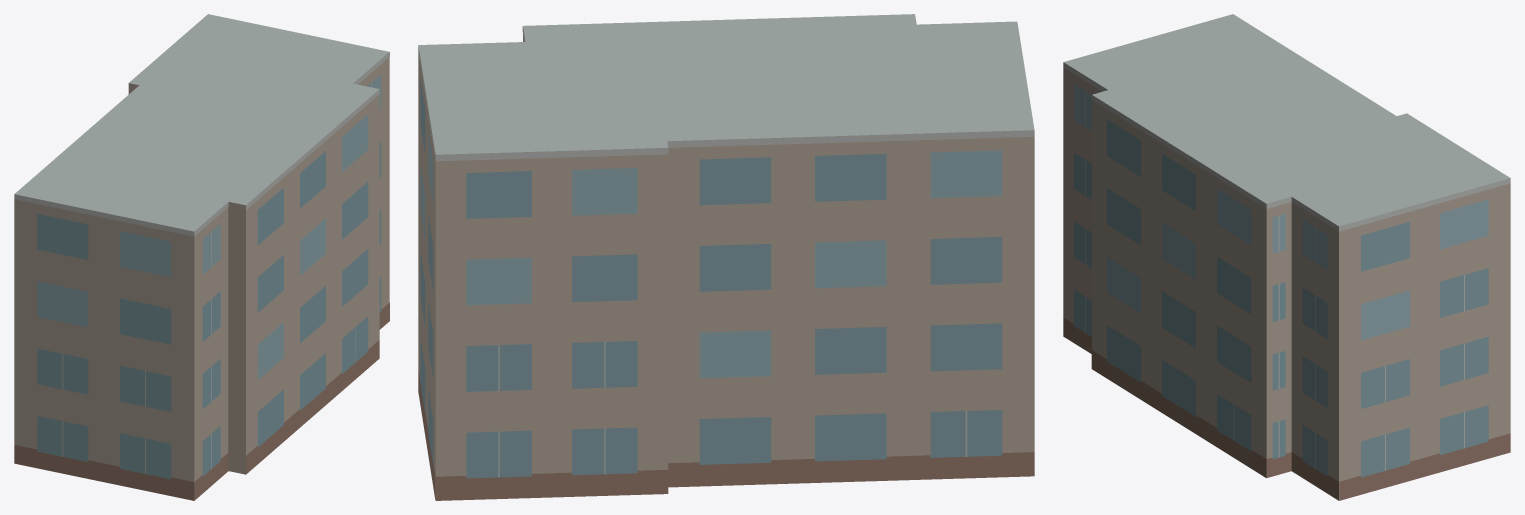
The model's file is survey-upis-32827807.glb.
3 renders of one model, left to right at view 1: azimuth 30°, elevation 25°; view 2: azimuth 150°, elevation 25°; view 3: azimuth 270°, elevation 25°, orthographic. The views are drawn at different scales.
Visible parts, largest first — view 1: survey-upis-32827807.tmp; view 2: survey-upis-32827807.tmp; view 3: survey-upis-32827807.tmp.
Part boxes in pixels (x1,y1,x2,y2): survey-upis-32827807.tmp: (14,14,389,500); survey-upis-32827807.tmp: (418,14,1034,500); survey-upis-32827807.tmp: (1063,14,1510,500).
Bounding box in the file's own units: 21.27 × 12.8 × 18.92.
